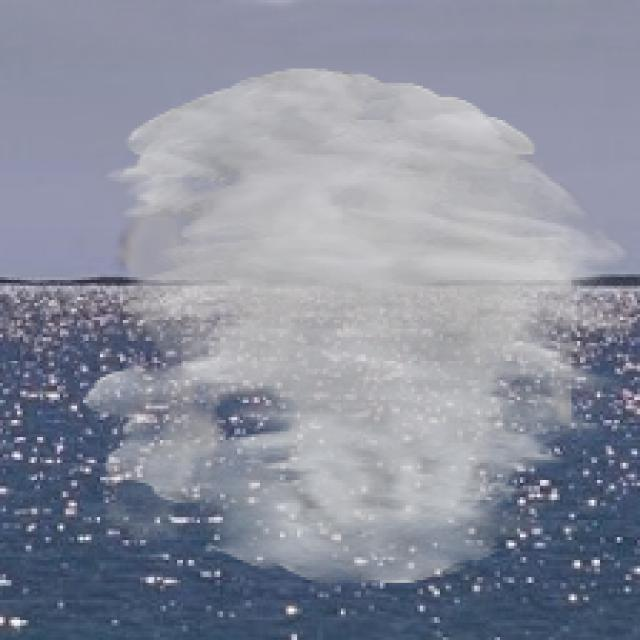Smoke: (82, 69, 638, 586)
